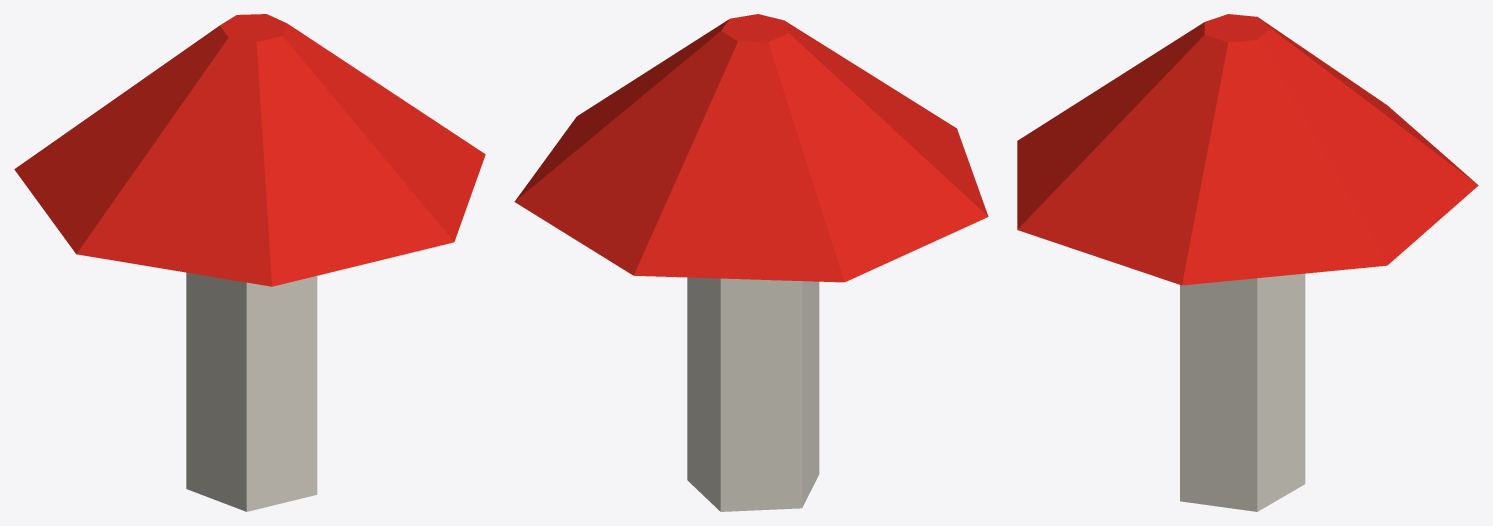
Rendered from garden2_mushroom_cluster.glb.
The picture shows the model from 3 angles, left to right: view 1: azimuth 30°, elevation 25°; view 2: azimuth 150°, elevation 25°; view 3: azimuth 270°, elevation 25°; orthographic projection.
Visible parts, largest first — view 1: mushroom_cluster; view 2: mushroom_cluster; view 3: mushroom_cluster.
Boxes of the visible parts, x1,y1,x2,y2 form: mushroom_cluster: [14, 14, 485, 511]; mushroom_cluster: [514, 14, 988, 511]; mushroom_cluster: [1017, 14, 1478, 511].
Bounding box in the file's own units: 0.1365 × 0.145 × 0.1331.
